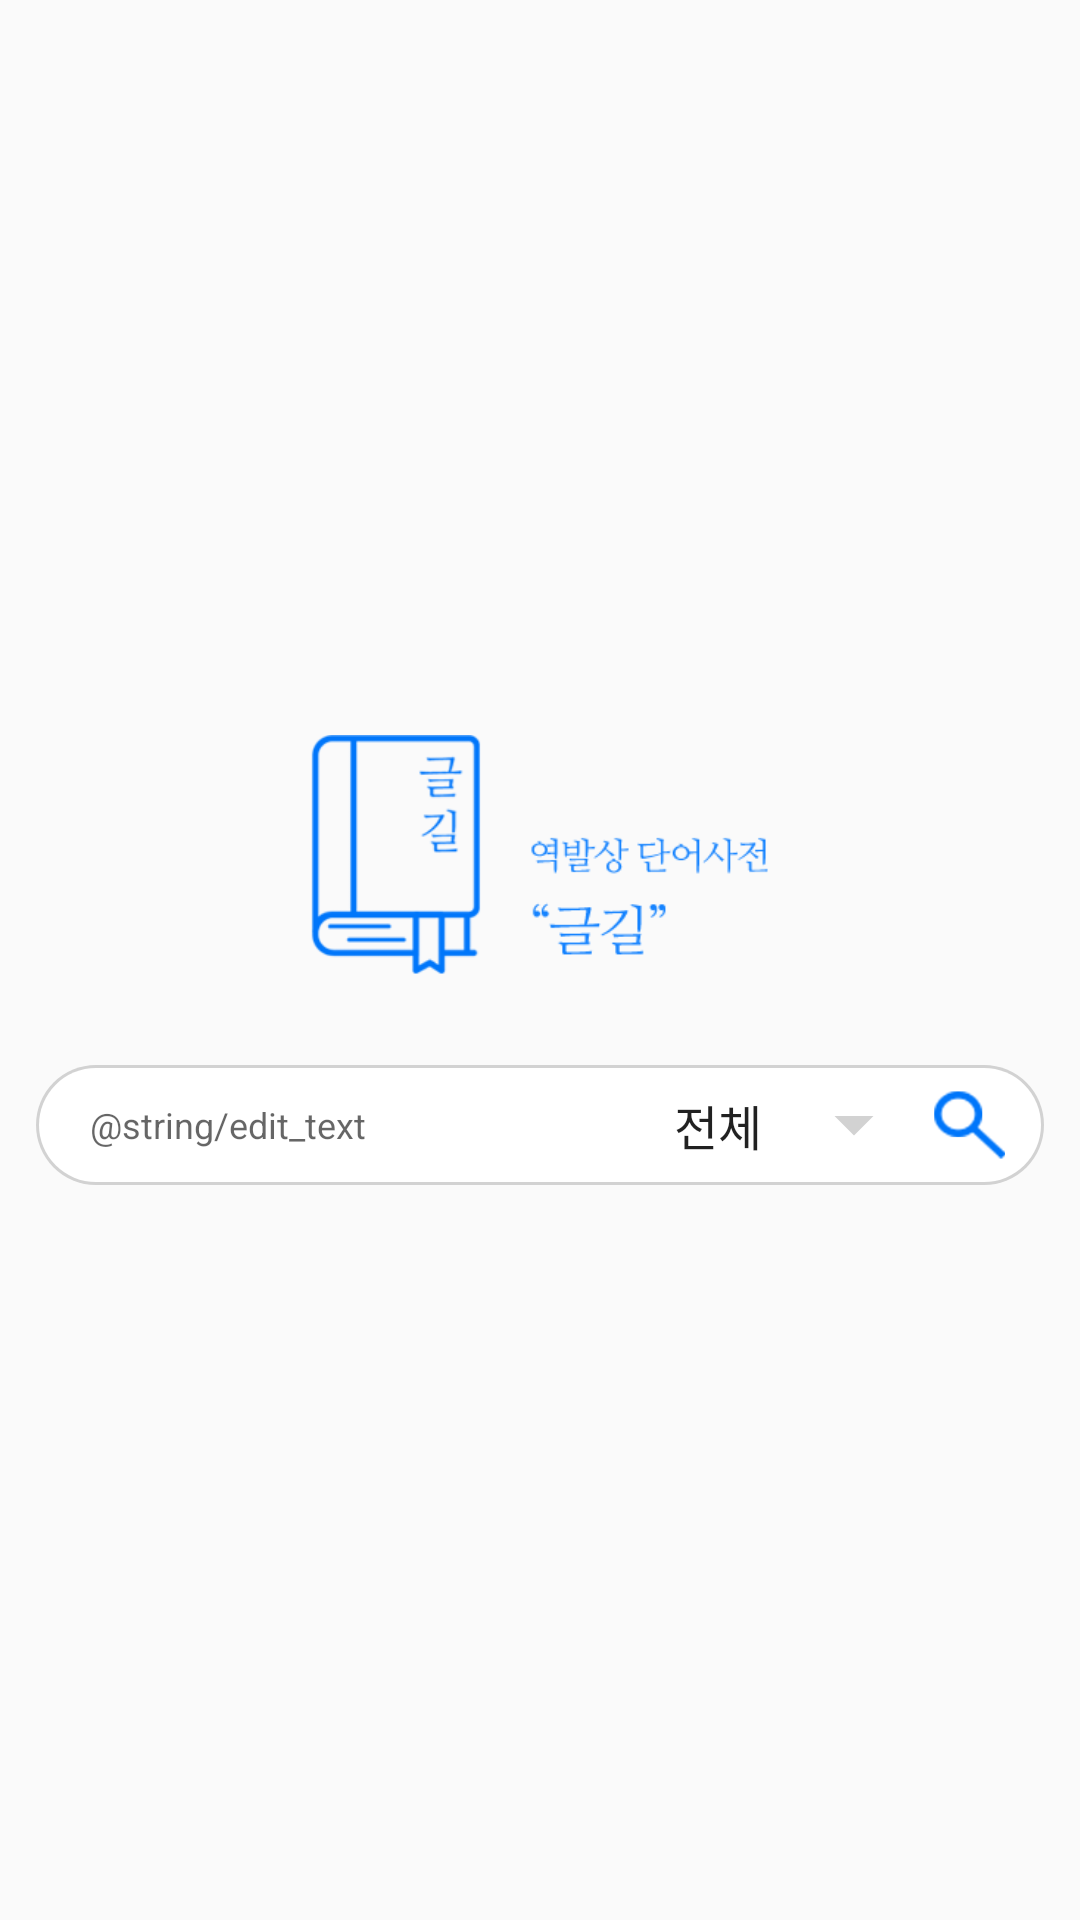

Named icons in this screenshot (1080w x 1920h) and their bounding boxes, (x1, y1, x2, y2):
search: (934, 1091, 1005, 1159)
